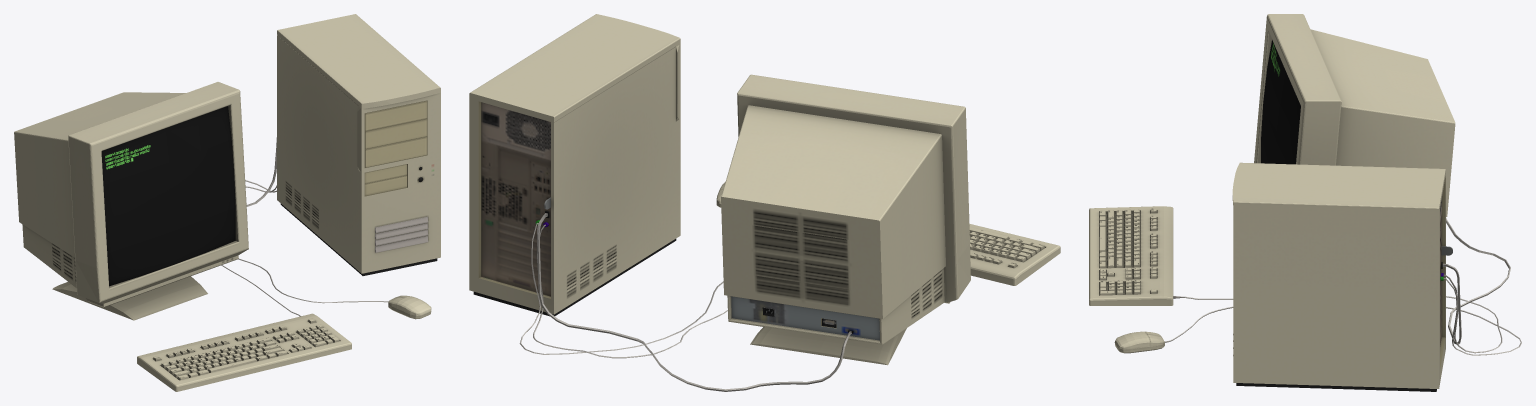
3 renders of one model, left to right at view 1: azimuth 30°, elevation 25°; view 2: azimuth 150°, elevation 25°; view 3: azimuth 270°, elevation 25°, orthographic. The views are drawn at different scales.
Visible parts, largest first — view 1: retro_computer_setup; view 2: retro_computer_setup; view 3: retro_computer_setup.
Part boxes in pixels (bbox=[...]): retro_computer_setup: bbox=[14, 14, 440, 391]; retro_computer_setup: bbox=[469, 14, 1060, 391]; retro_computer_setup: bbox=[1089, 14, 1521, 391].
Size of the model in its own units: 96.81 by 96.94 by 49.28.
Materials: 1 (1 with a texture image).
